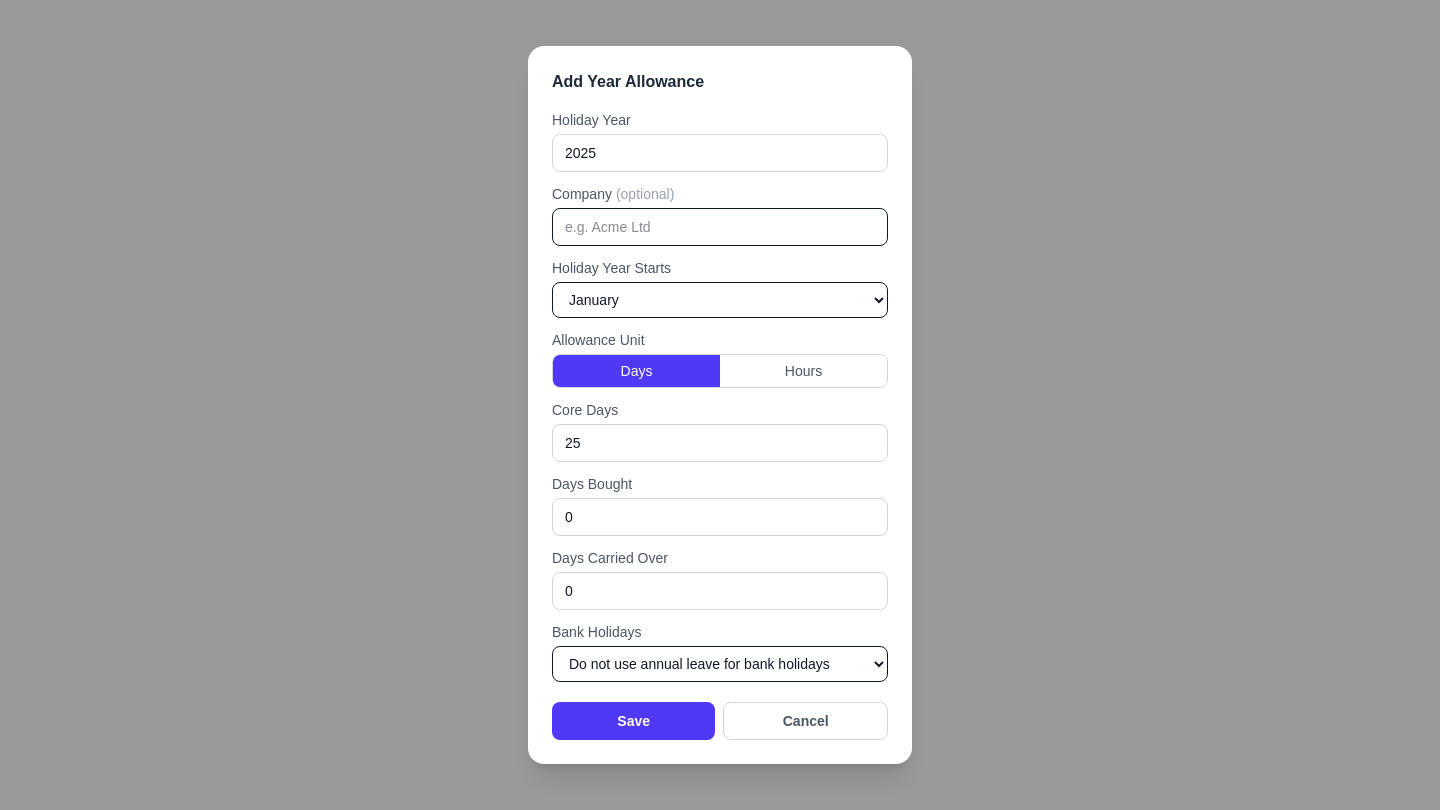
Test case: YearAllowanceModal — overlap validation › prevents saving when the new allowance overlaps an existing one for the same company
The image size is (1440, 810).
Set company to "Acme" which already has a 2025 allowance
Type "Acme" into the field labelled "Company(optional)" at x=720, y=227, box [552,208,888,246]
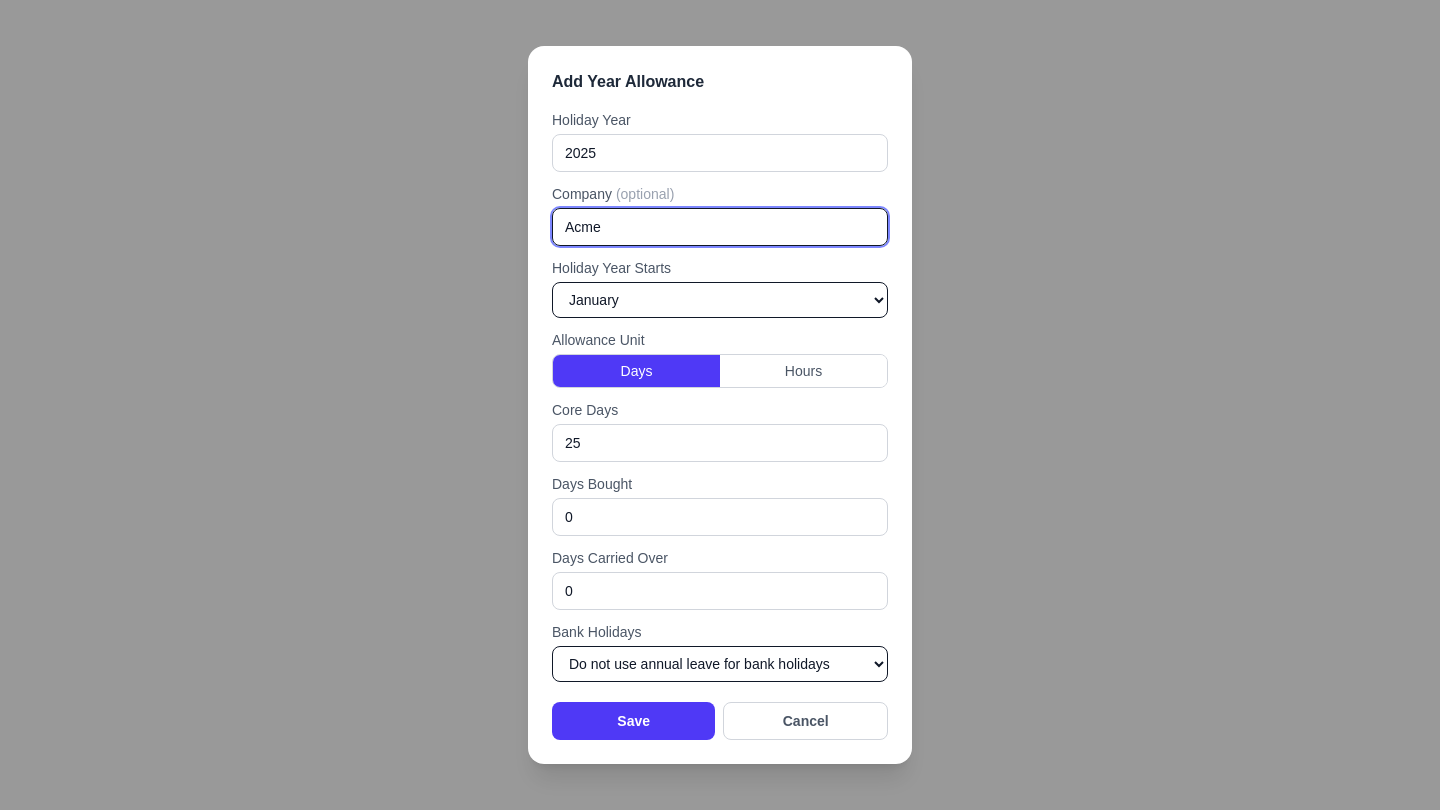
Click the button "Save" at x=634, y=721, box [552,702,715,740]
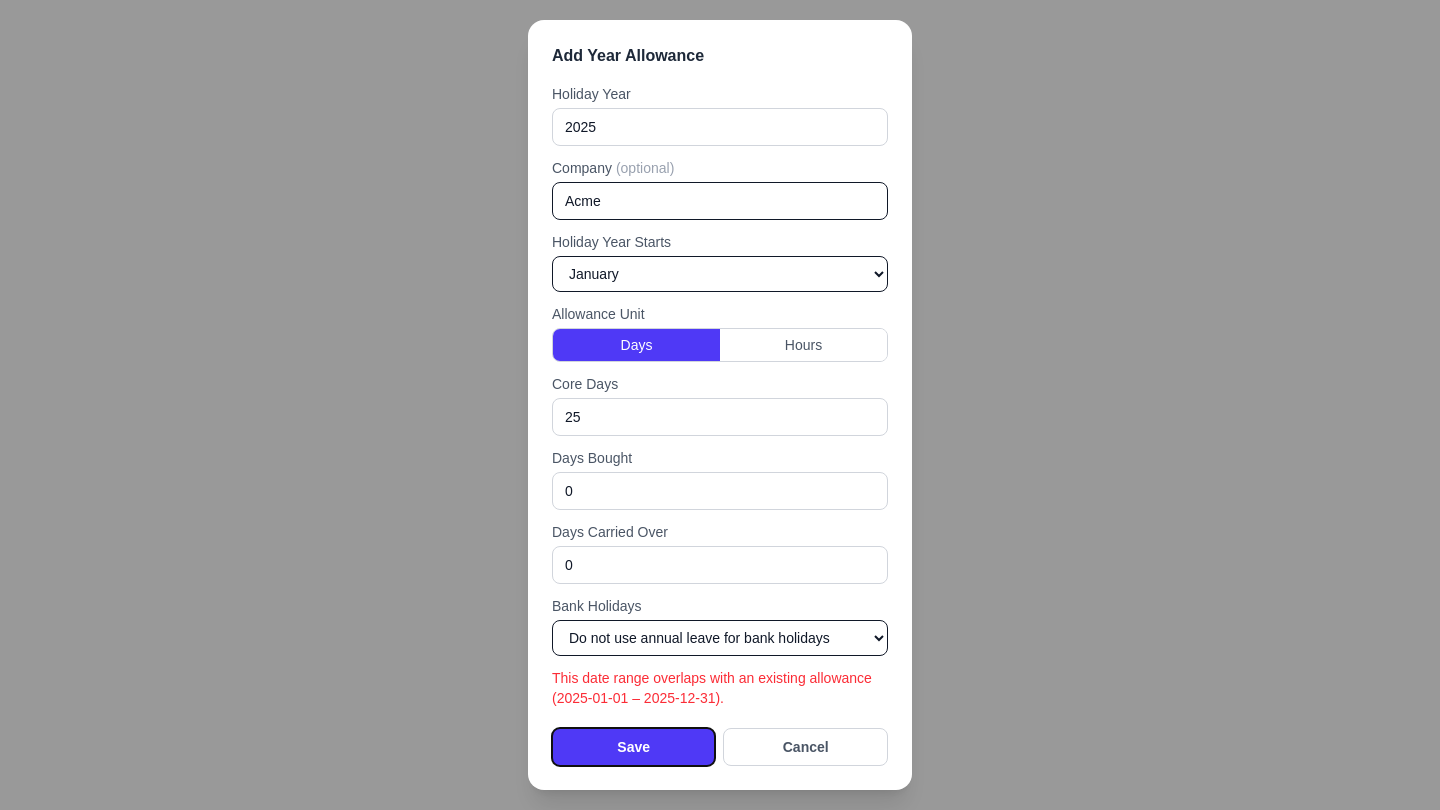
Check: the text "overlaps with an existing allowance" is shown, box [552,670,872,706]
